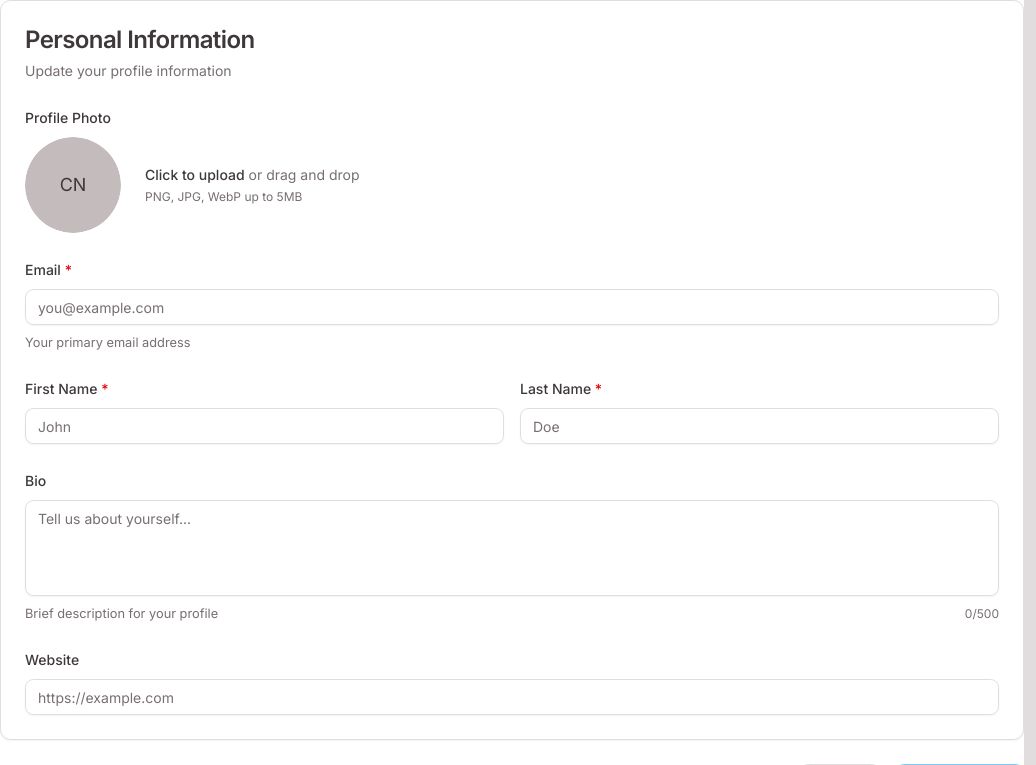
Test: ProfileForm › Bio Character Counter › updates character count as user types
Type "Test bio" into the text box labelled "Bio" at (512, 548), box [25,500,999,596]
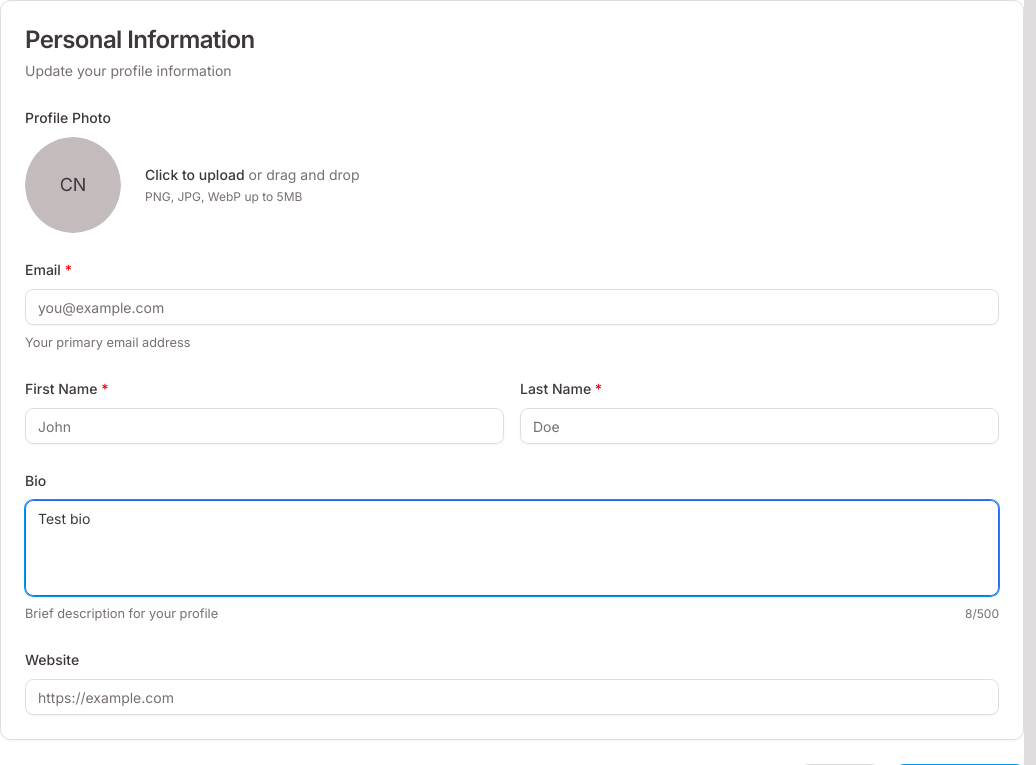
Result: the text "8/500" is shown at [965,606,999,622]
